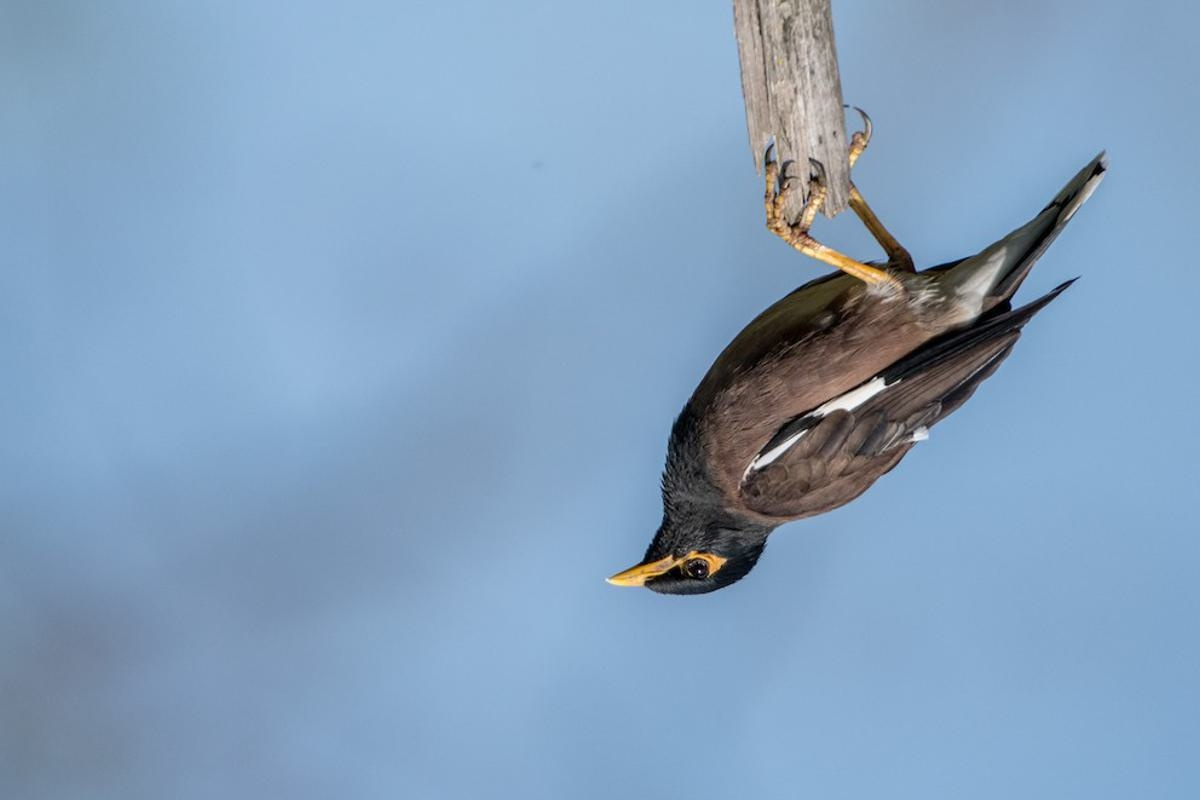myna: (594, 134, 1133, 623)
